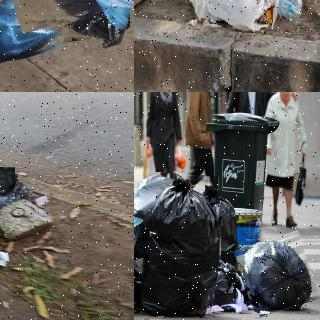Garbage: (143, 173, 219, 317), (239, 235, 316, 315), (17, 0, 133, 44), (0, 0, 69, 65), (134, 173, 176, 255), (186, 0, 285, 33), (0, 164, 16, 201)
